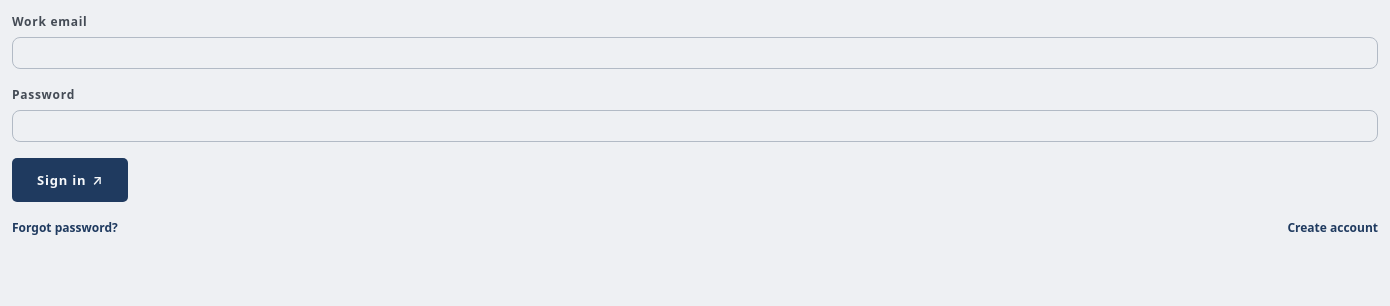
Test: authentication forms › does not navigate when sign in is rejected
The width and height of the screenshot is (1390, 306).
Type "alex@example.com" into the field labelled "Work email" at (695, 53), box left=12, top=37, right=1378, bottom=69
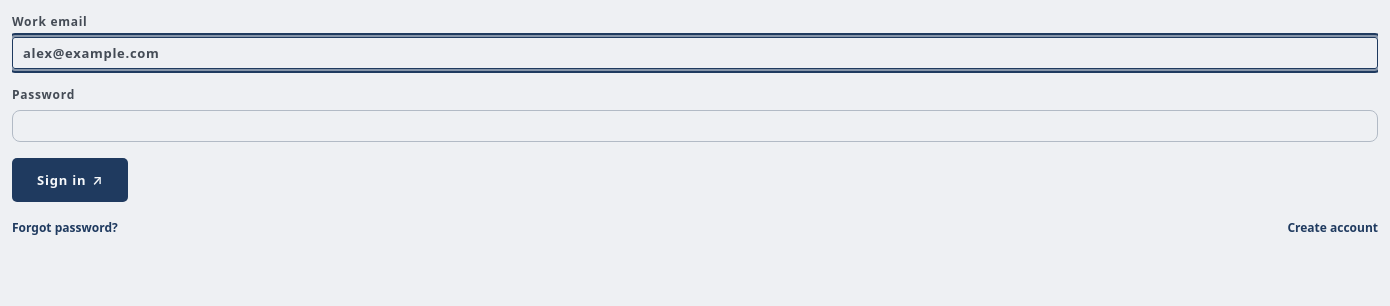
Type "wrong-password" into the password field labelled "Password" at (695, 126), box left=12, top=110, right=1378, bottom=142
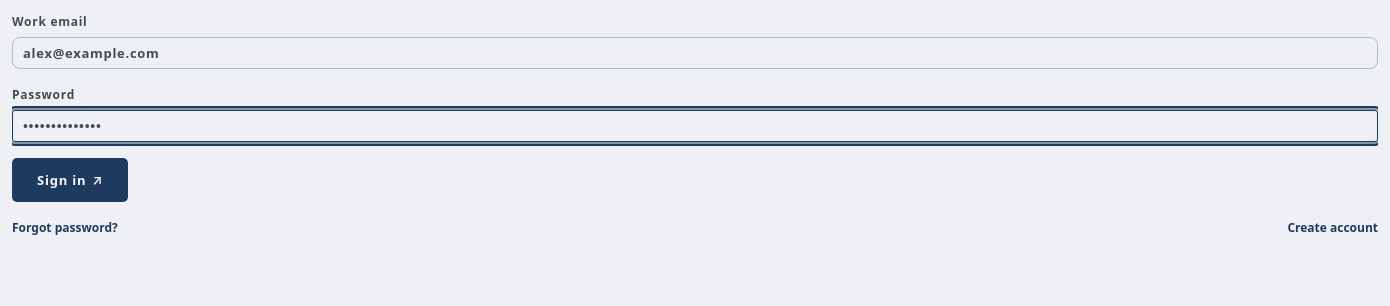
Click the button "Sign in ↗" at (70, 180), box left=12, top=158, right=128, bottom=202
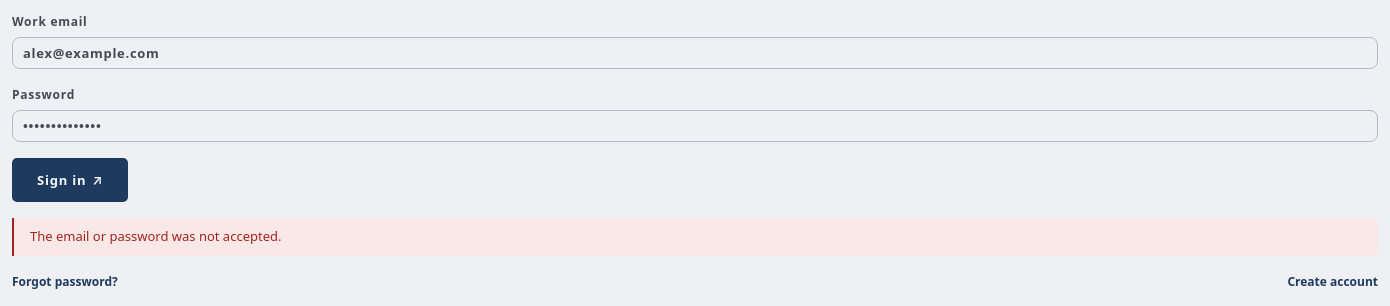
Now the message shows "not accepted", box left=30, top=227, right=282, bottom=245
